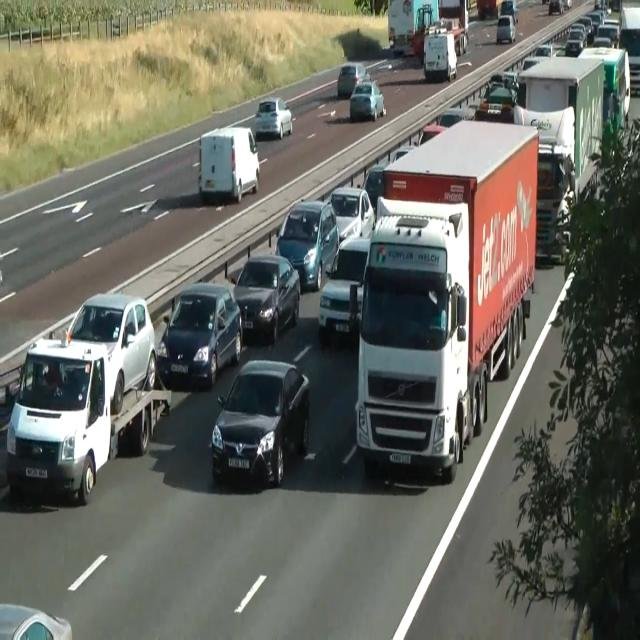bus: (233, 254, 301, 344), (327, 185, 375, 242), (0, 602, 72, 639), (414, 108, 467, 148), (255, 97, 292, 139), (349, 81, 385, 122), (337, 62, 371, 98), (479, 81, 515, 114), (362, 164, 386, 213), (414, 124, 446, 148), (564, 26, 588, 57), (593, 22, 619, 48), (570, 16, 594, 43), (496, 14, 516, 44), (437, 108, 467, 128), (497, 0, 518, 24), (532, 42, 556, 58), (477, 0, 497, 19), (392, 148, 414, 164), (520, 57, 543, 72), (548, 0, 564, 15)
car: (354, 207, 470, 482)
jeep: (5, 335, 111, 505), (211, 358, 310, 488), (64, 292, 156, 415), (156, 281, 242, 387), (275, 198, 339, 291), (317, 236, 371, 342)
minibus: (355, 119, 539, 483), (513, 46, 630, 263), (387, 0, 468, 61), (198, 125, 260, 203), (617, 4, 639, 96), (423, 26, 457, 82)
